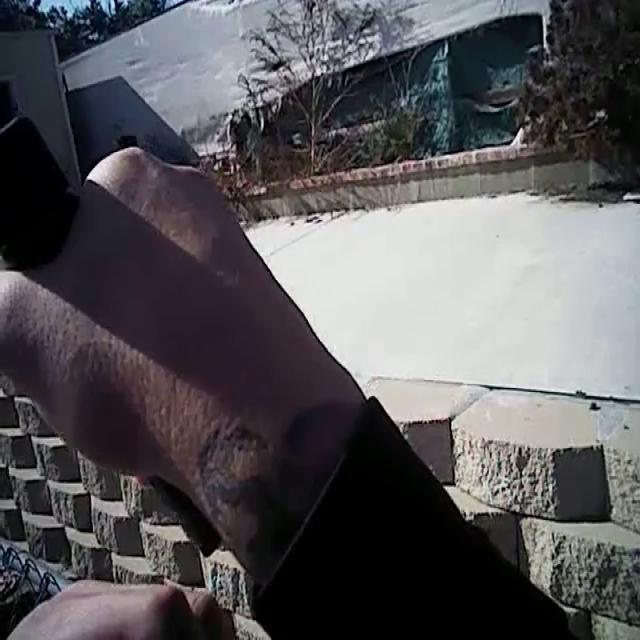gun: (0, 88, 116, 322)
